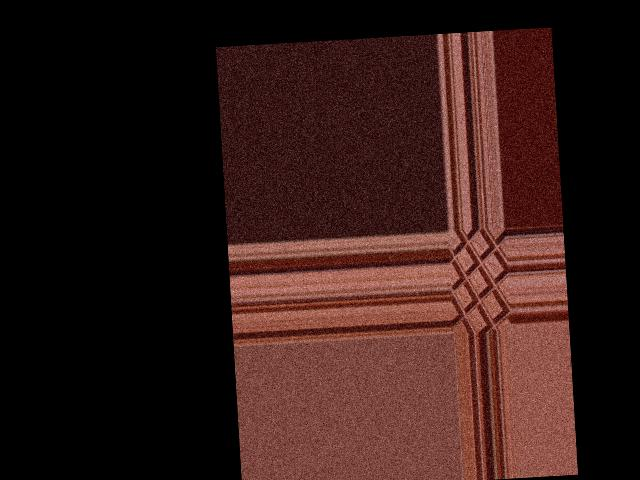chocolate: (449, 230, 512, 333)
